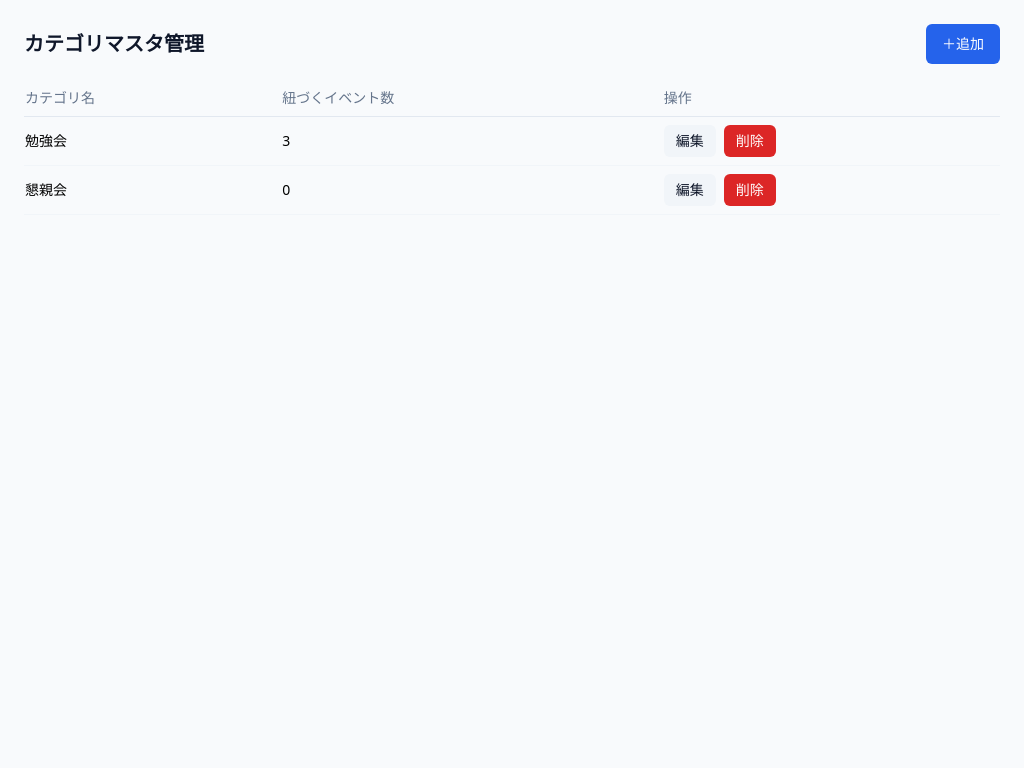
Test: CategoriesAdminPage › 「削除」クリックで、削除確認モーダルが開くこと
Check: the text "勉強会" is shown, box left=24, top=116, right=281, bottom=166
Click the button "削除" in the row of "勉強会" at (750, 141), box left=724, top=125, right=776, bottom=157
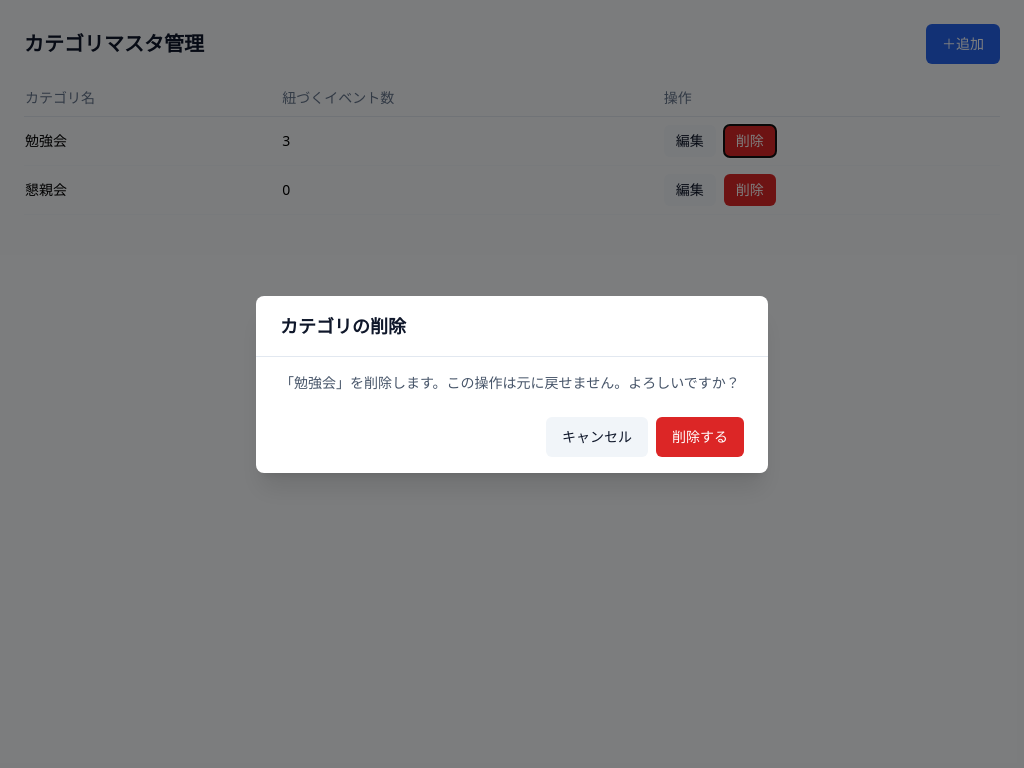
Check: the heading "カテゴリの削除" is shown, box left=280, top=314, right=406, bottom=338
